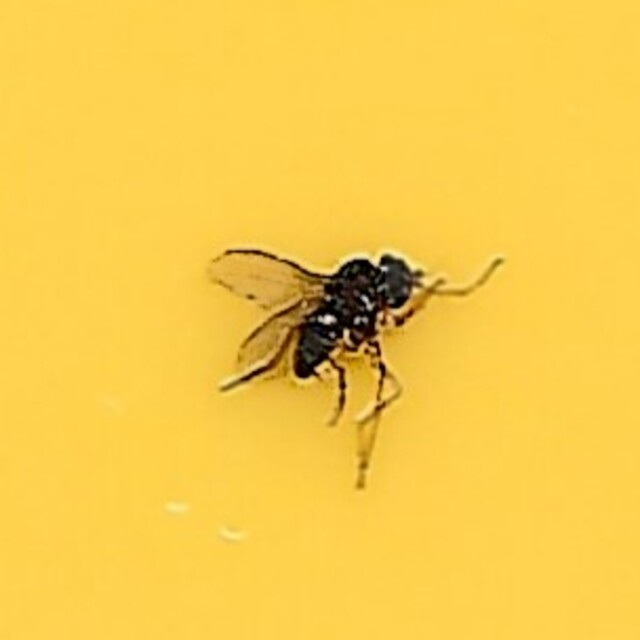Brachycera: (211, 232, 429, 408)
